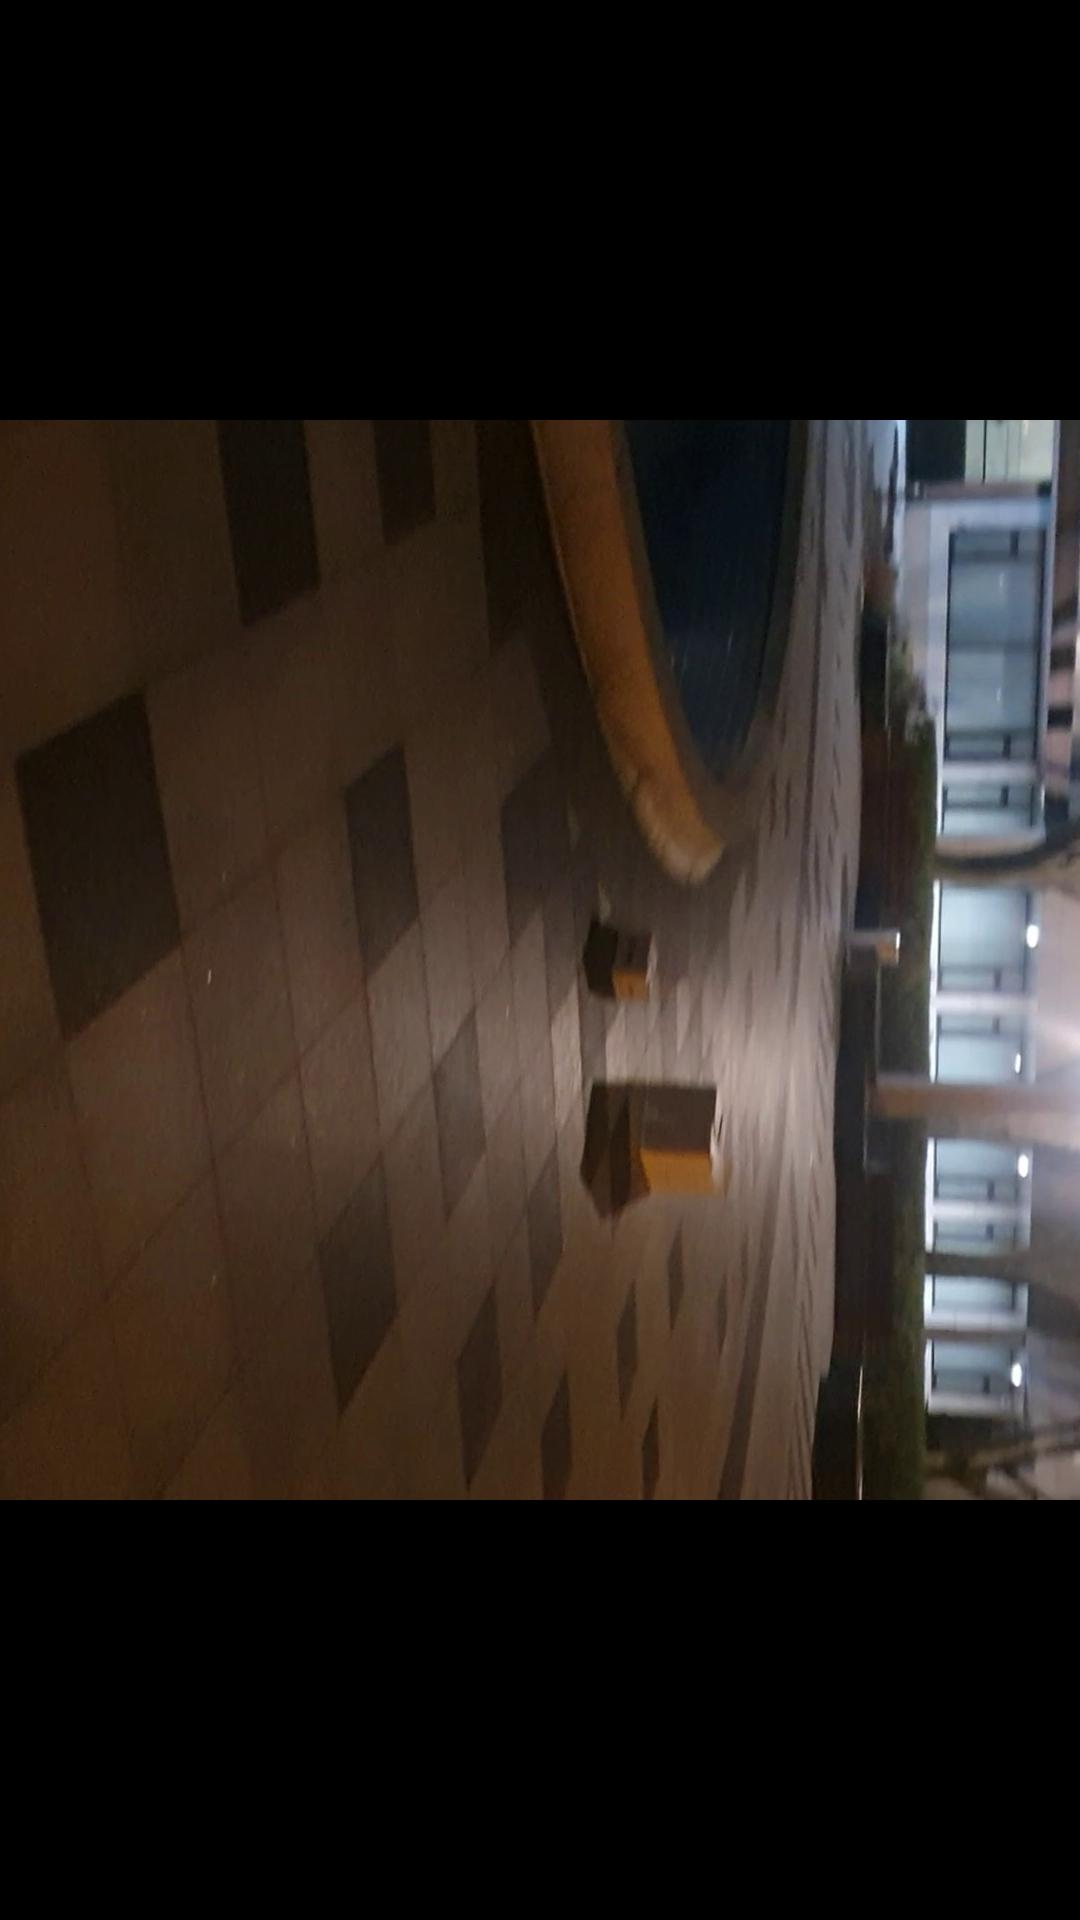Box: (618, 1073, 731, 1203), (600, 920, 665, 1010)
